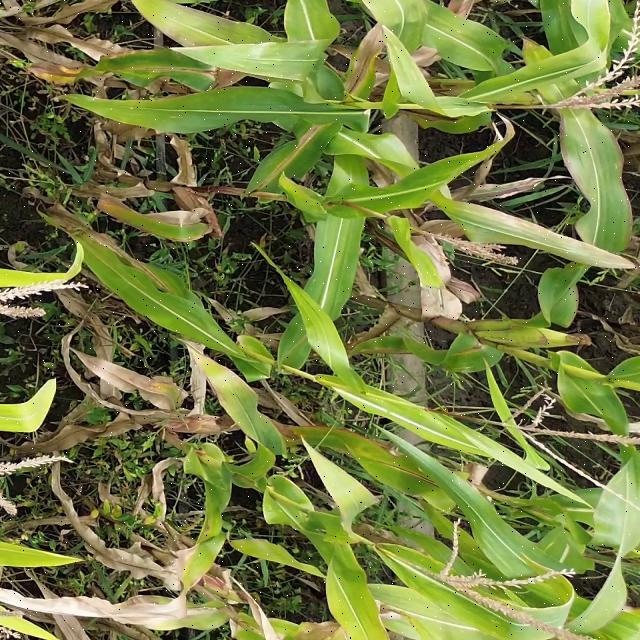gray-leaf-spot: (234, 53, 309, 80)
northern-leaf-blight: (372, 338, 480, 368), (267, 120, 327, 174), (107, 241, 171, 289), (120, 56, 216, 82), (341, 44, 378, 95)
